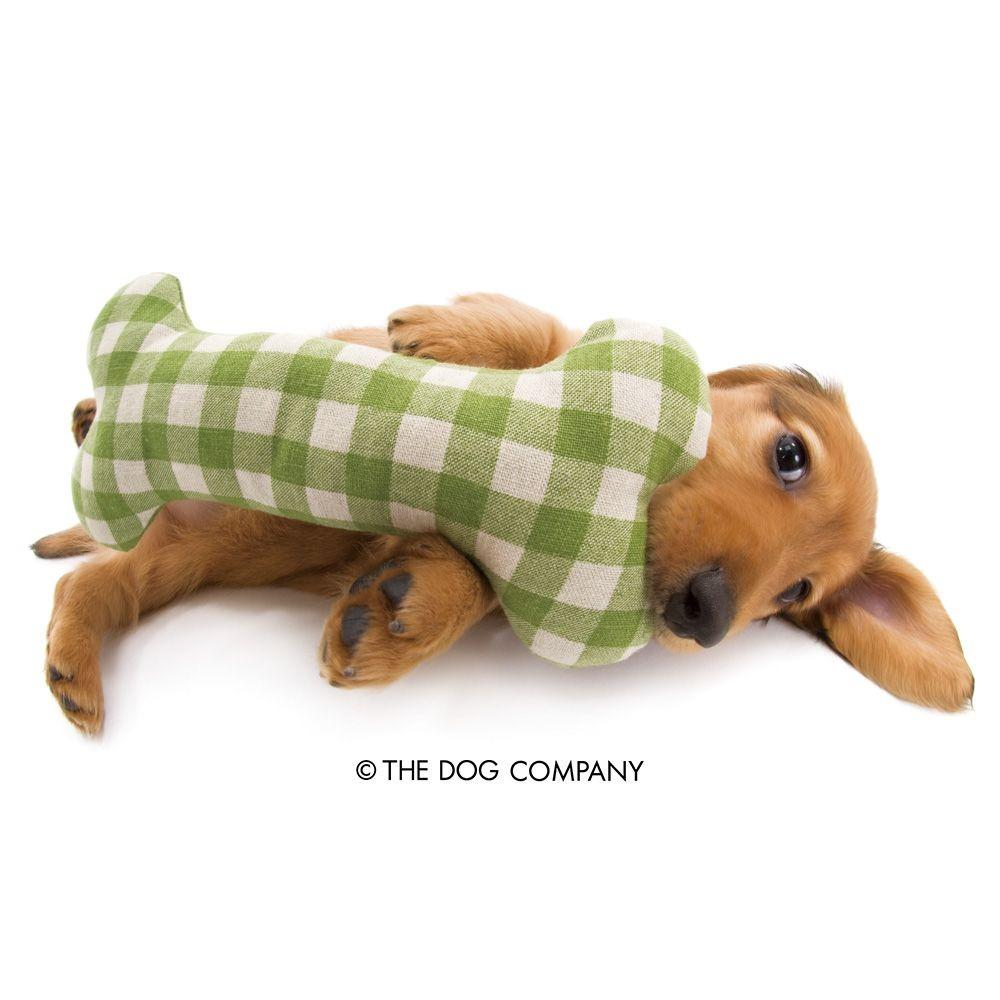puppy-dog: (37, 292, 978, 732)
